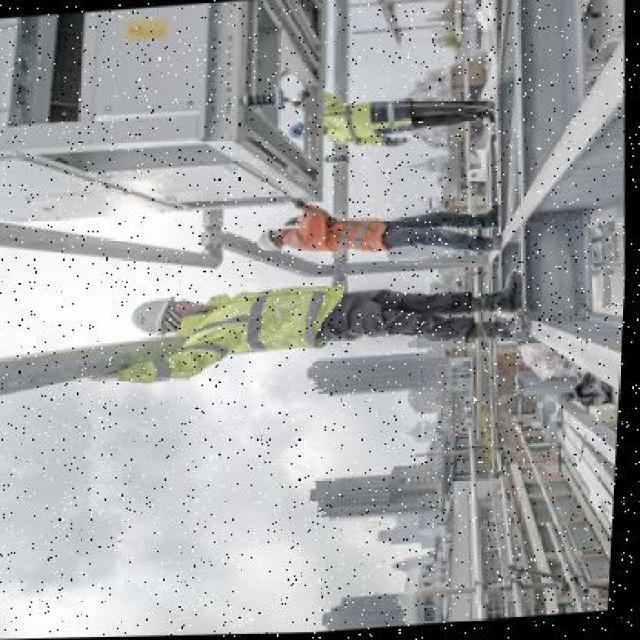helmet: (133, 296, 193, 340), (252, 223, 296, 253)
vest: (178, 280, 354, 357)
